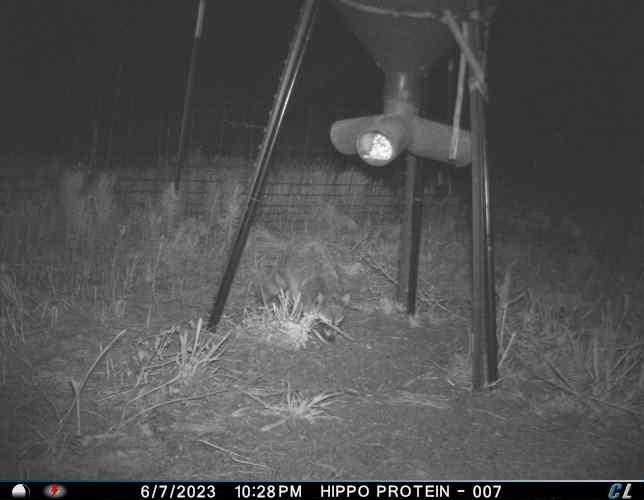Raccoon: (257, 235, 354, 341)
